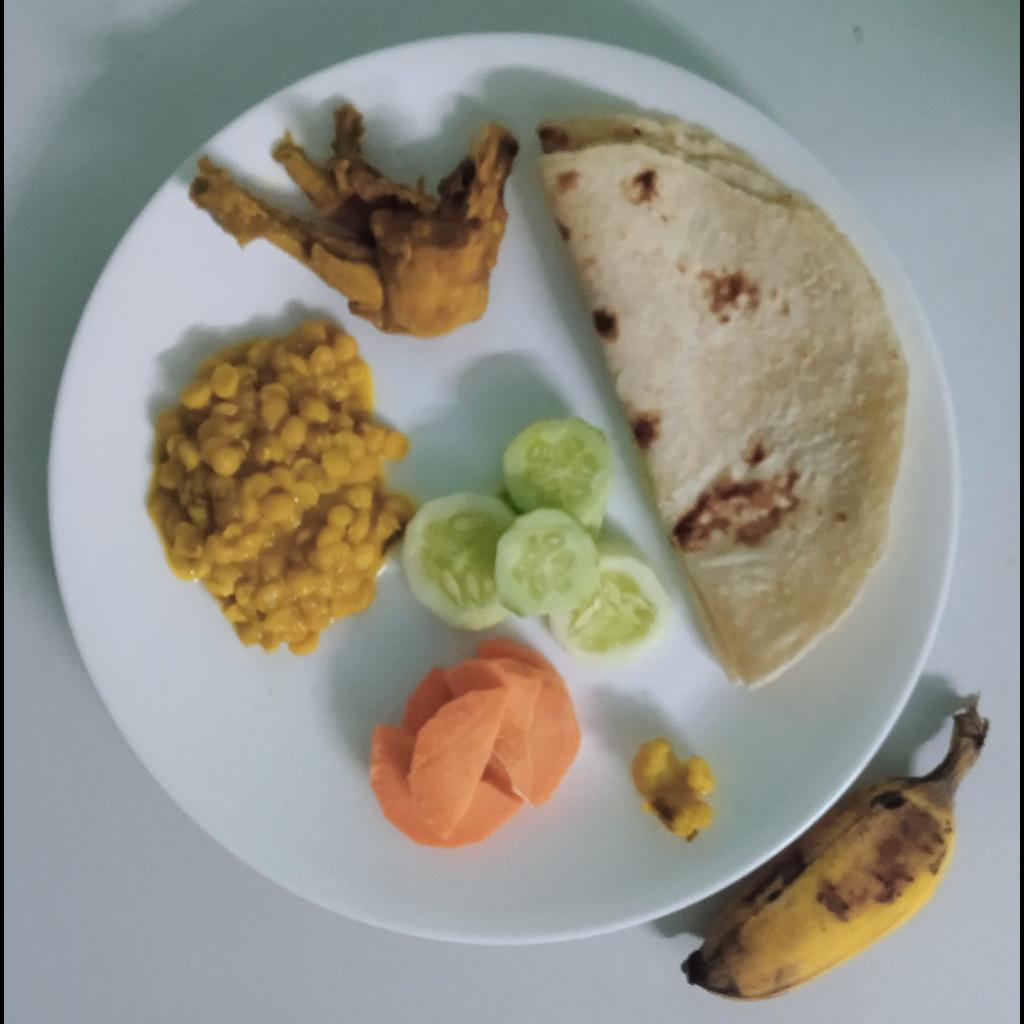banana: (678, 692, 987, 1000)
carrot: (370, 637, 584, 847)
cauliflower: (632, 739, 716, 838)
chicken: (191, 107, 520, 340)
cucumber: (403, 417, 672, 667)
daal: (153, 323, 412, 655)
ruti: (535, 113, 910, 691)
